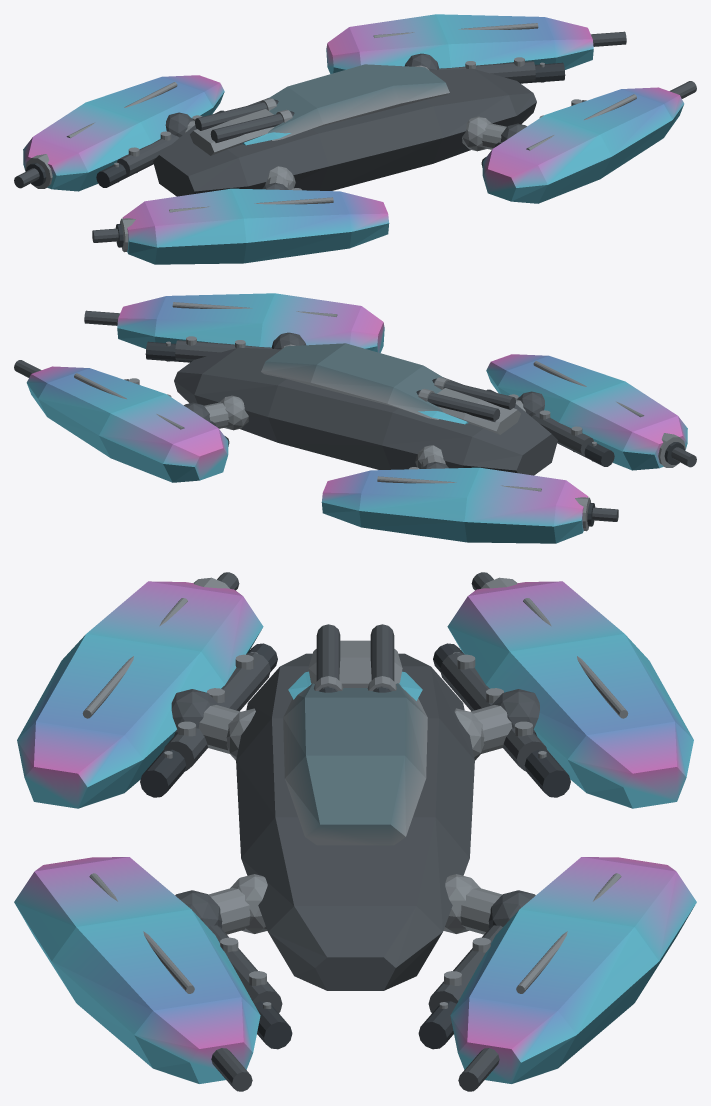
The model's file is x5_neon_compact_off.glb.
3 views of the same model, one above another, from view 1: azimuth 30°, elevation 25°; view 2: azimuth 150°, elevation 25°; view 3: azimuth 270°, elevation 25° (orthographic). The views are drawn at different scales.
Parts seen in each view (by area): view 1: pod_armor_10, center_hull_0, cabin_base_1, pod_mechanics_15, missile_body_3, pod_rail_11, forward_gun_12, launcher_saddle_2, outer_joint_9, inner_drive_rail_17, inner_joint_7, mechanical_arms_8 (+2 smaller); view 2: pod_armor_10, center_hull_0, cabin_base_1, pod_mechanics_15, missile_body_3, pod_rail_11, forward_gun_12, launcher_saddle_2, outer_joint_9, inner_drive_rail_17, inner_joint_7, mechanical_arms_8 (+2 smaller); view 3: pod_armor_10, center_hull_0, cabin_base_1, pod_mechanics_15, inner_drive_rail_17, mechanical_arms_8, outer_joint_9, inner_joint_7, pod_rail_11, missile_body_3, forward_gun_12, mechanical_crossbeam_16 (+1 smaller).
Boxes of the visible parts, <box> form: pod_armor_10: <box>23,14,684,264</box>; center_hull_0: <box>153,68,536,196</box>; cabin_base_1: <box>268,64,449,140</box>; pod_mechanics_15: <box>117,61,586,177</box>; missile_body_3: <box>195,100,292,142</box>; pod_rail_11: <box>66,23,636,212</box>; forward_gun_12: <box>14,31,696,242</box>; launcher_saddle_2: <box>190,109,273,155</box>; outer_joint_9: <box>165,53,526,189</box>; inner_drive_rail_17: <box>96,62,565,187</box>; inner_joint_7: <box>267,116,491,189</box>; mechanical_arms_8: <box>185,65,506,189</box>; pod_armor_10: <box>26,293,687,543</box>; center_hull_0: <box>174,347,557,475</box>; cabin_base_1: <box>261,343,443,419</box>; pod_mechanics_15: <box>124,340,593,456</box>; missile_body_3: <box>418,379,515,421</box>; pod_rail_11: <box>74,302,644,491</box>; forward_gun_12: <box>14,310,696,521</box>; launcher_saddle_2: <box>437,388,520,434</box>; outer_joint_9: <box>184,332,544,468</box>; inner_drive_rail_17: <box>145,341,614,466</box>; inner_joint_7: <box>219,395,443,468</box>; mechanical_arms_8: <box>204,344,525,468</box>; pod_armor_10: <box>14,581,696,1083</box>; center_hull_0: <box>236,653,474,990</box>; cabin_base_1: <box>283,683,427,845</box>; pod_mechanics_15: <box>163,652,547,1012</box>; inner_drive_rail_17: <box>140,643,570,1049</box>; mechanical_arms_8: <box>198,705,512,934</box>; outer_joint_9: <box>171,689,539,928</box>; inner_joint_7: <box>226,708,484,933</box>; pod_rail_11: <box>82,598,628,993</box>; missile_body_3: <box>316,624,394,691</box>; forward_gun_12: <box>211,572,499,1091</box>; mechanical_crossbeam_16: <box>178,654,532,985</box>.
Size of the model in its own units: 7.07 by 0.9 by 4.06.
